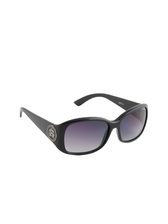glasses: (13, 95, 155, 156)
